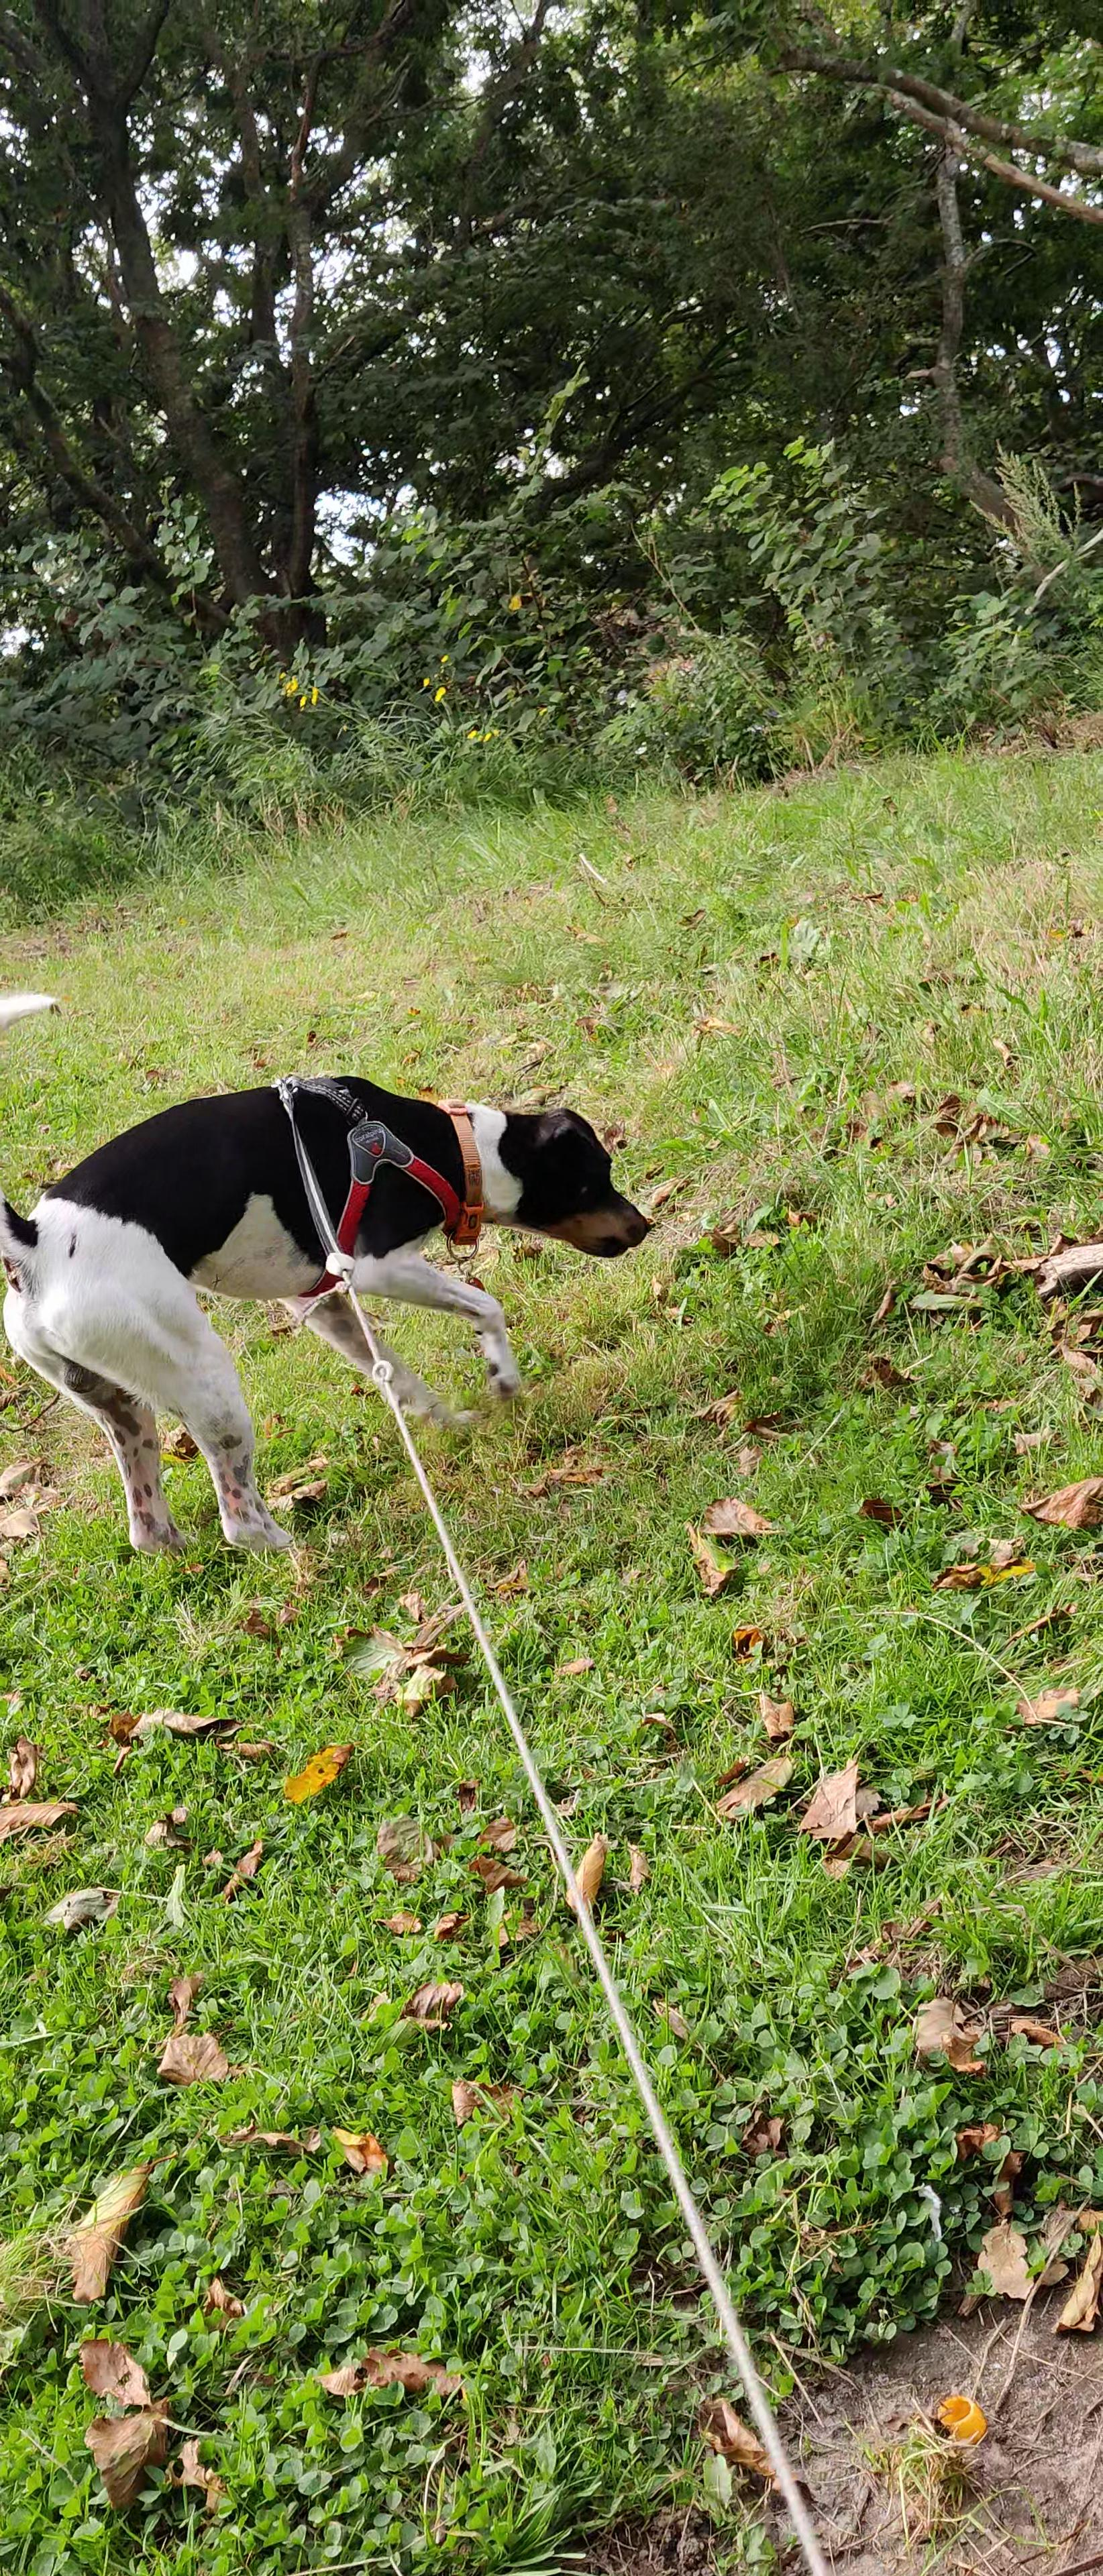Dog: (0, 989, 654, 1562)
